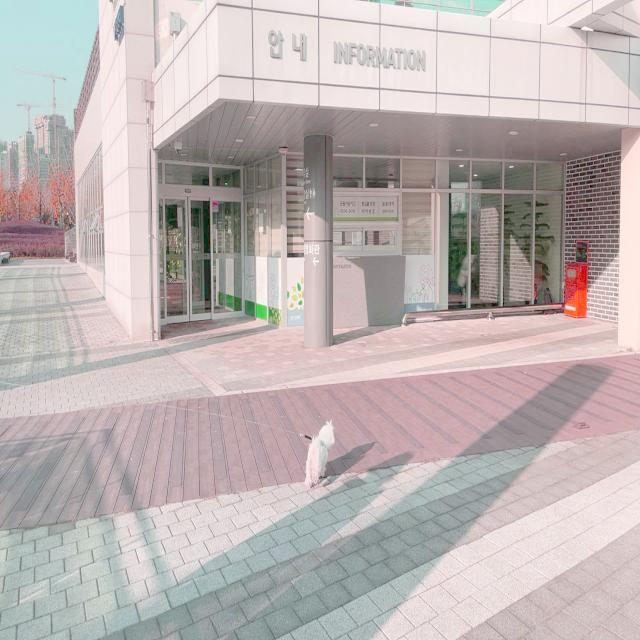Dog: (305, 419, 336, 489)
